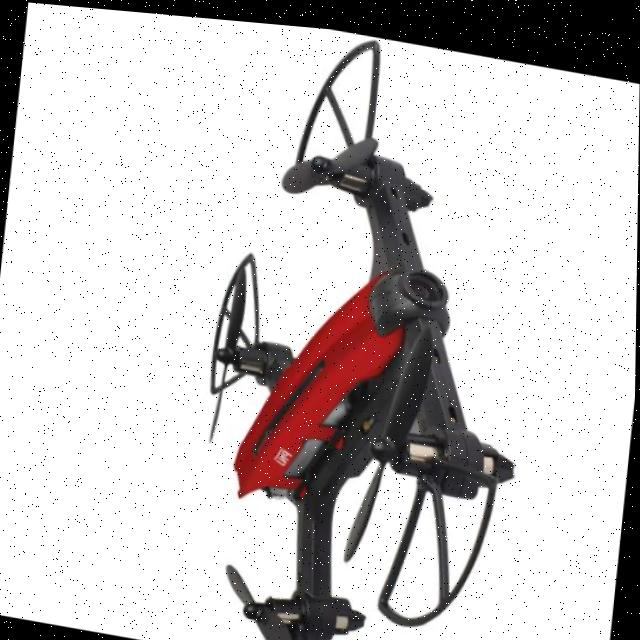drones: (166, 12, 568, 640)
